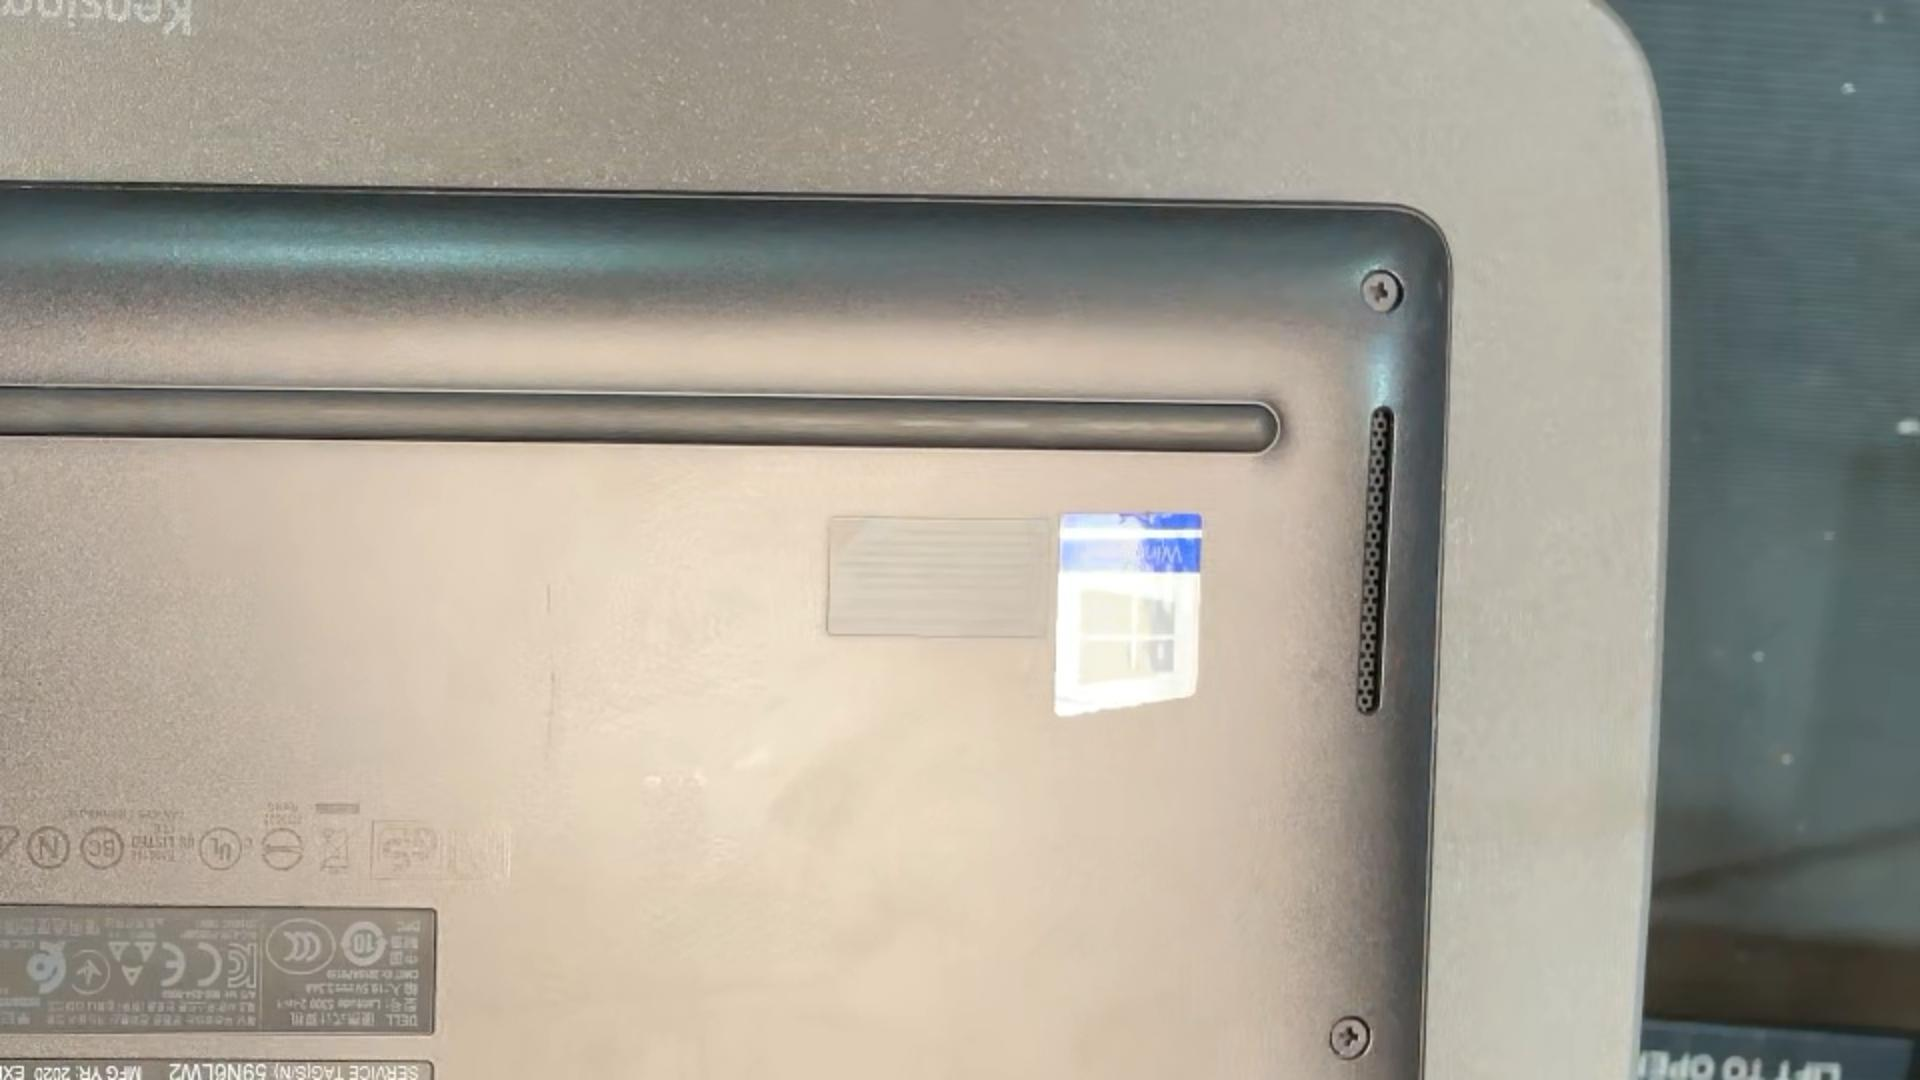scratches: (540, 574, 558, 767)
